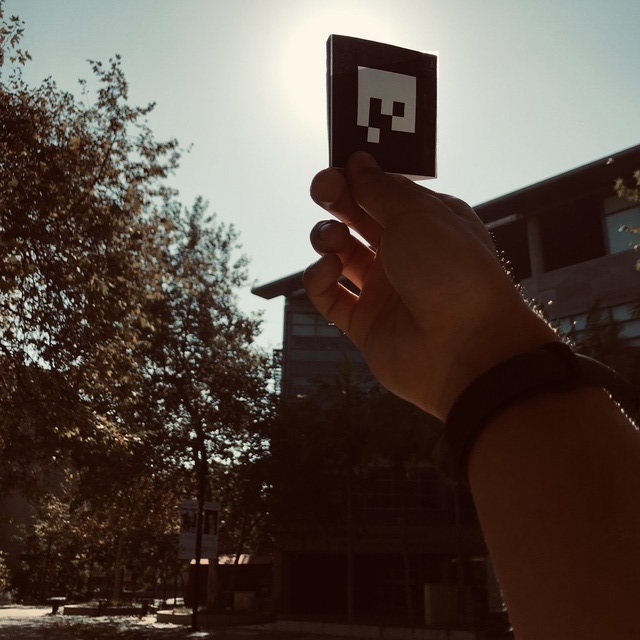ARTag: (325, 33, 438, 186)
